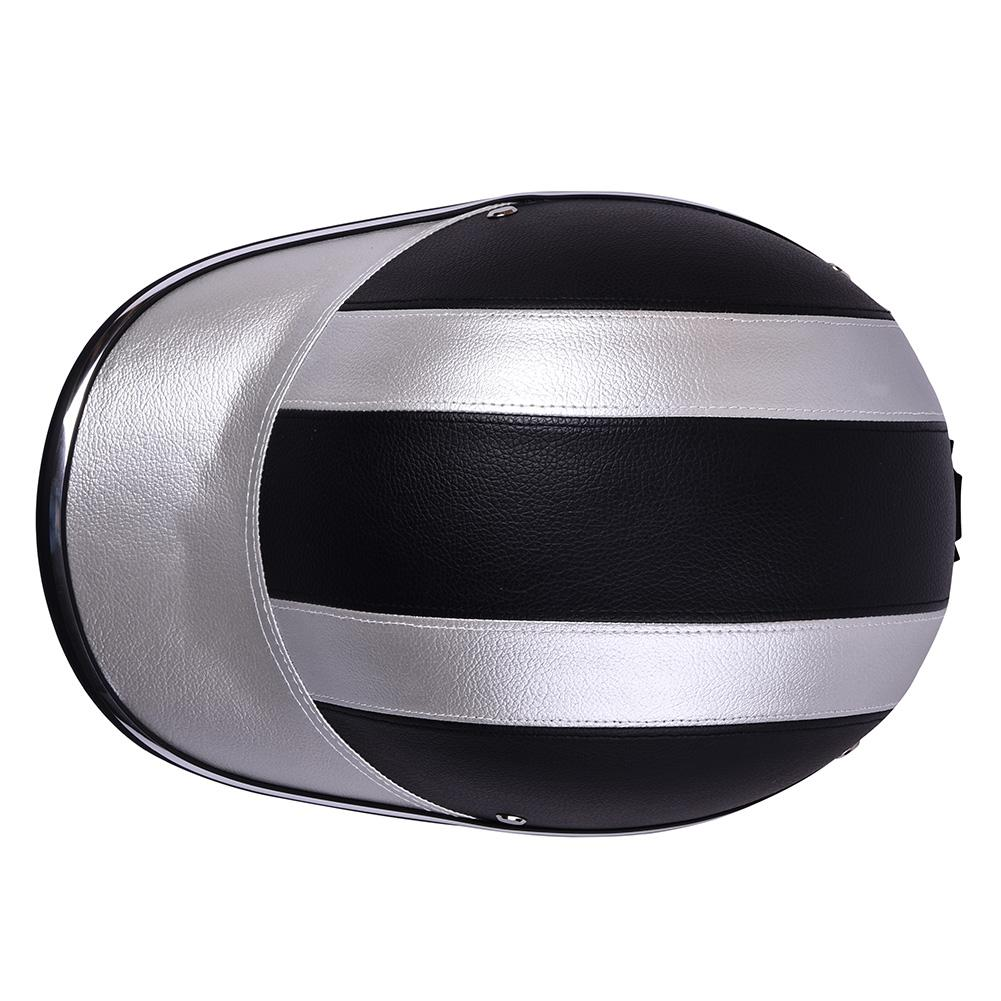Helmet: (21, 175, 973, 873)
